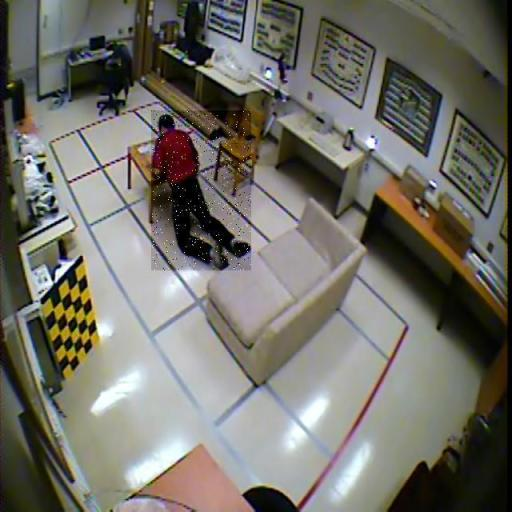Fall: (151, 111, 251, 271)
